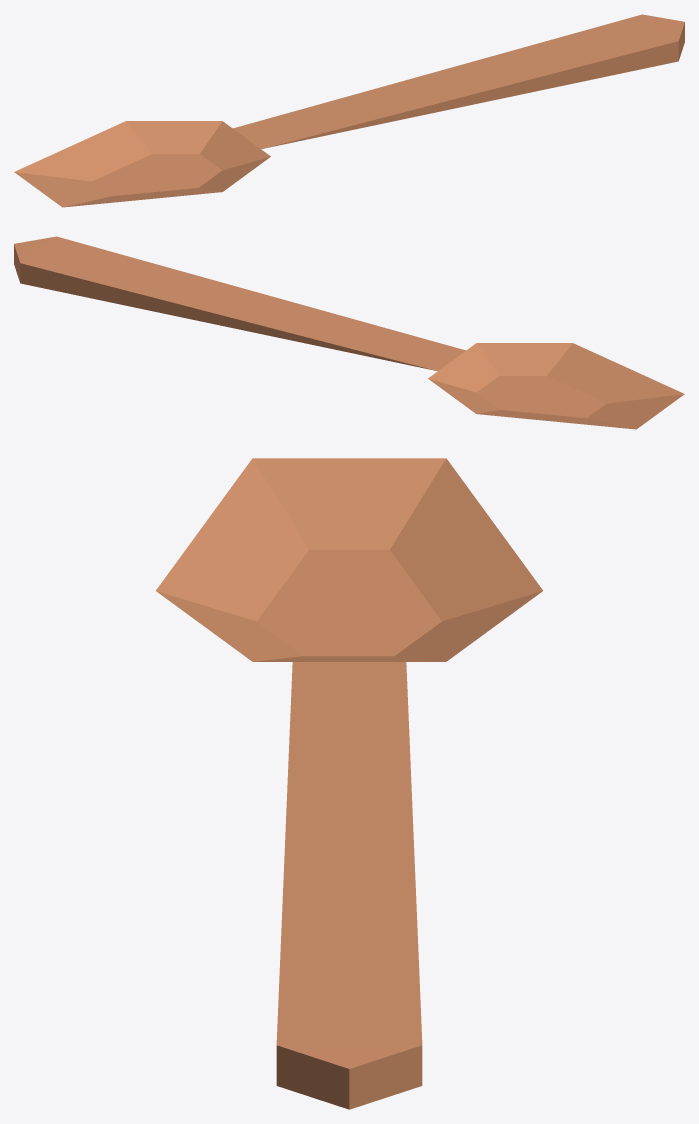
File: cookingSpoon.fbx
3 renders of one model, top to bottom at view 1: azimuth 30°, elevation 25°; view 2: azimuth 150°, elevation 25°; view 3: azimuth 270°, elevation 25°, orthographic. The views are drawn at different scales.
Parts seen in each view (by area): view 1: cookingSpoon; view 2: cookingSpoon; view 3: cookingSpoon.
Part boxes in pixels (x1,y1,x2,y2): cookingSpoon: (14, 14, 684, 207); cookingSpoon: (14, 236, 684, 429); cookingSpoon: (156, 458, 542, 1109).
Bounding box in the file's own units: 6.66 × 0.244 × 1.73.
